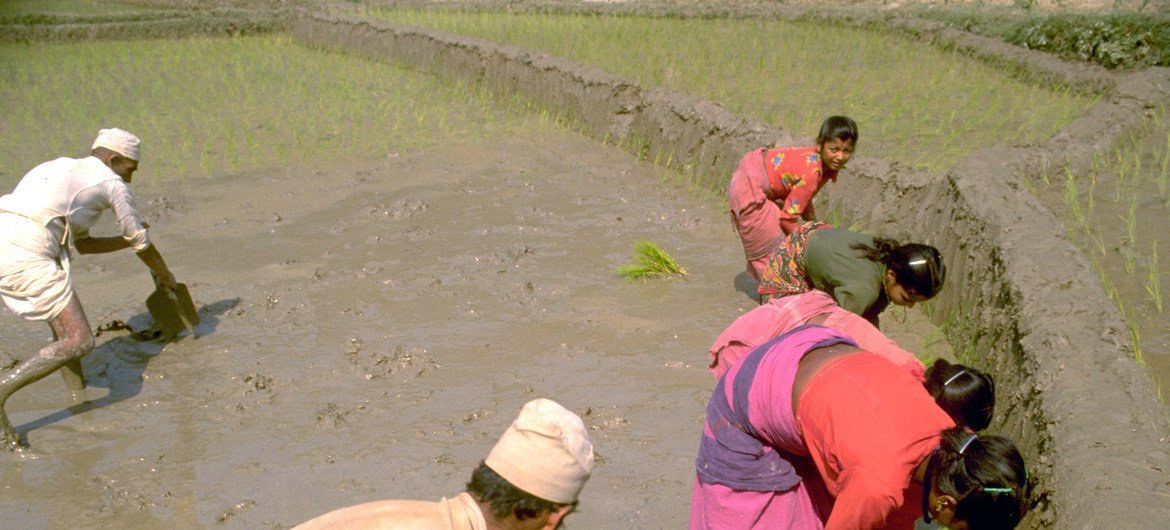human: (1, 104, 199, 460), (691, 326, 1034, 530), (668, 263, 1005, 457), (252, 394, 601, 530), (709, 108, 869, 315), (758, 215, 941, 341)
